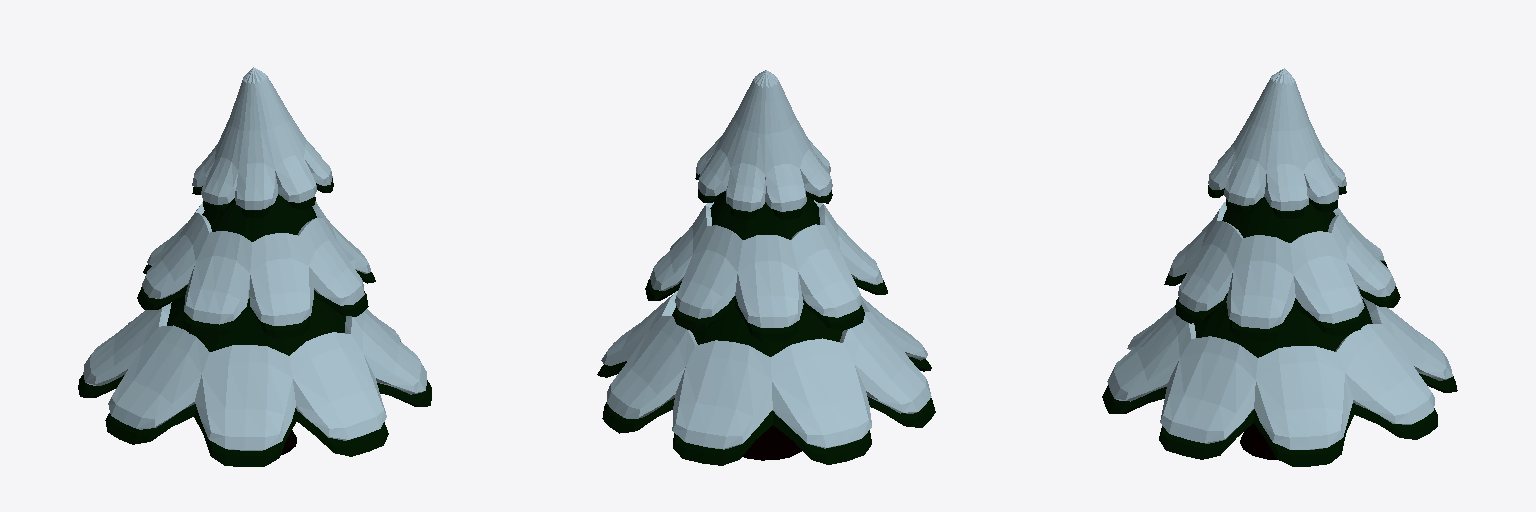
Rendered from Evergreen_2.obj.
3 renders of one model, left to right at view 1: azimuth 30°, elevation 25°; view 2: azimuth 150°, elevation 25°; view 3: azimuth 270°, elevation 25°, orthographic.
Visible parts, largest first — view 1: snow_on_Tree_2, Tree_2; view 2: snow_on_Tree_2, Tree_2, Trunk_2; view 3: snow_on_Tree_2, Tree_2, Trunk_2.
Part boxes in pixels (x1,y1,x2,y2): snow_on_Tree_2: (83,67,426,450); Tree_2: (78,178,431,466); snow_on_Tree_2: (601,70,931,449); Tree_2: (597,173,935,465); Trunk_2: (742,425,801,460); snow_on_Tree_2: (1107,68,1452,449); Tree_2: (1102,185,1457,466); Trunk_2: (1240,423,1279,460).
Bounding box in the file's own units: 0.8289 × 0.9805 × 0.8419.